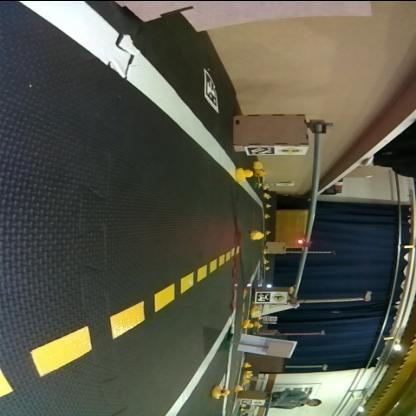Duckie: (237, 166, 254, 180), (214, 384, 230, 398), (251, 230, 266, 238), (247, 318, 254, 326), (256, 160, 263, 168)
Intersection sign: (273, 290, 287, 300)
QR code: (206, 68, 220, 106), (248, 145, 276, 154), (257, 291, 271, 301)
Signal sign: (279, 146, 305, 154)
Traffic light: (298, 236, 306, 242)
